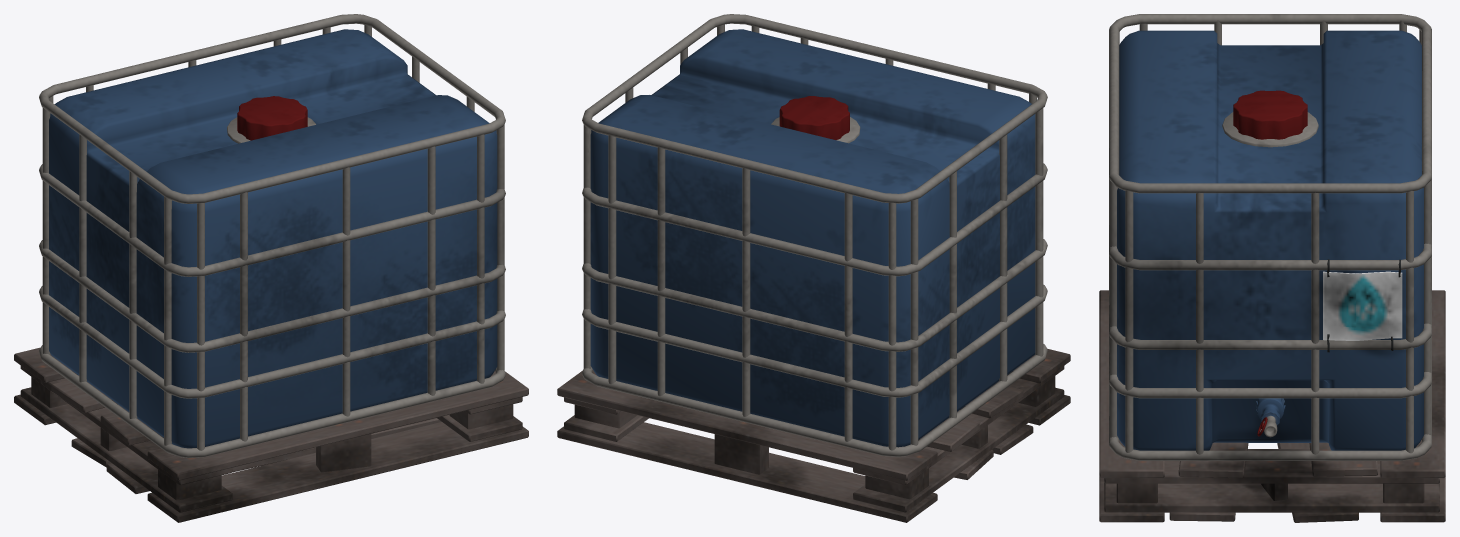
Rendered from liquid_container.glb.
3 renders of one model, left to right at view 1: azimuth 30°, elevation 25°; view 2: azimuth 150°, elevation 25°; view 3: azimuth 270°, elevation 25°, orthographic. The views are drawn at different scales.
Size of the model in its own units: 4.24 by 3.53 by 3.33.
Materials: 1 (1 with a texture image).
